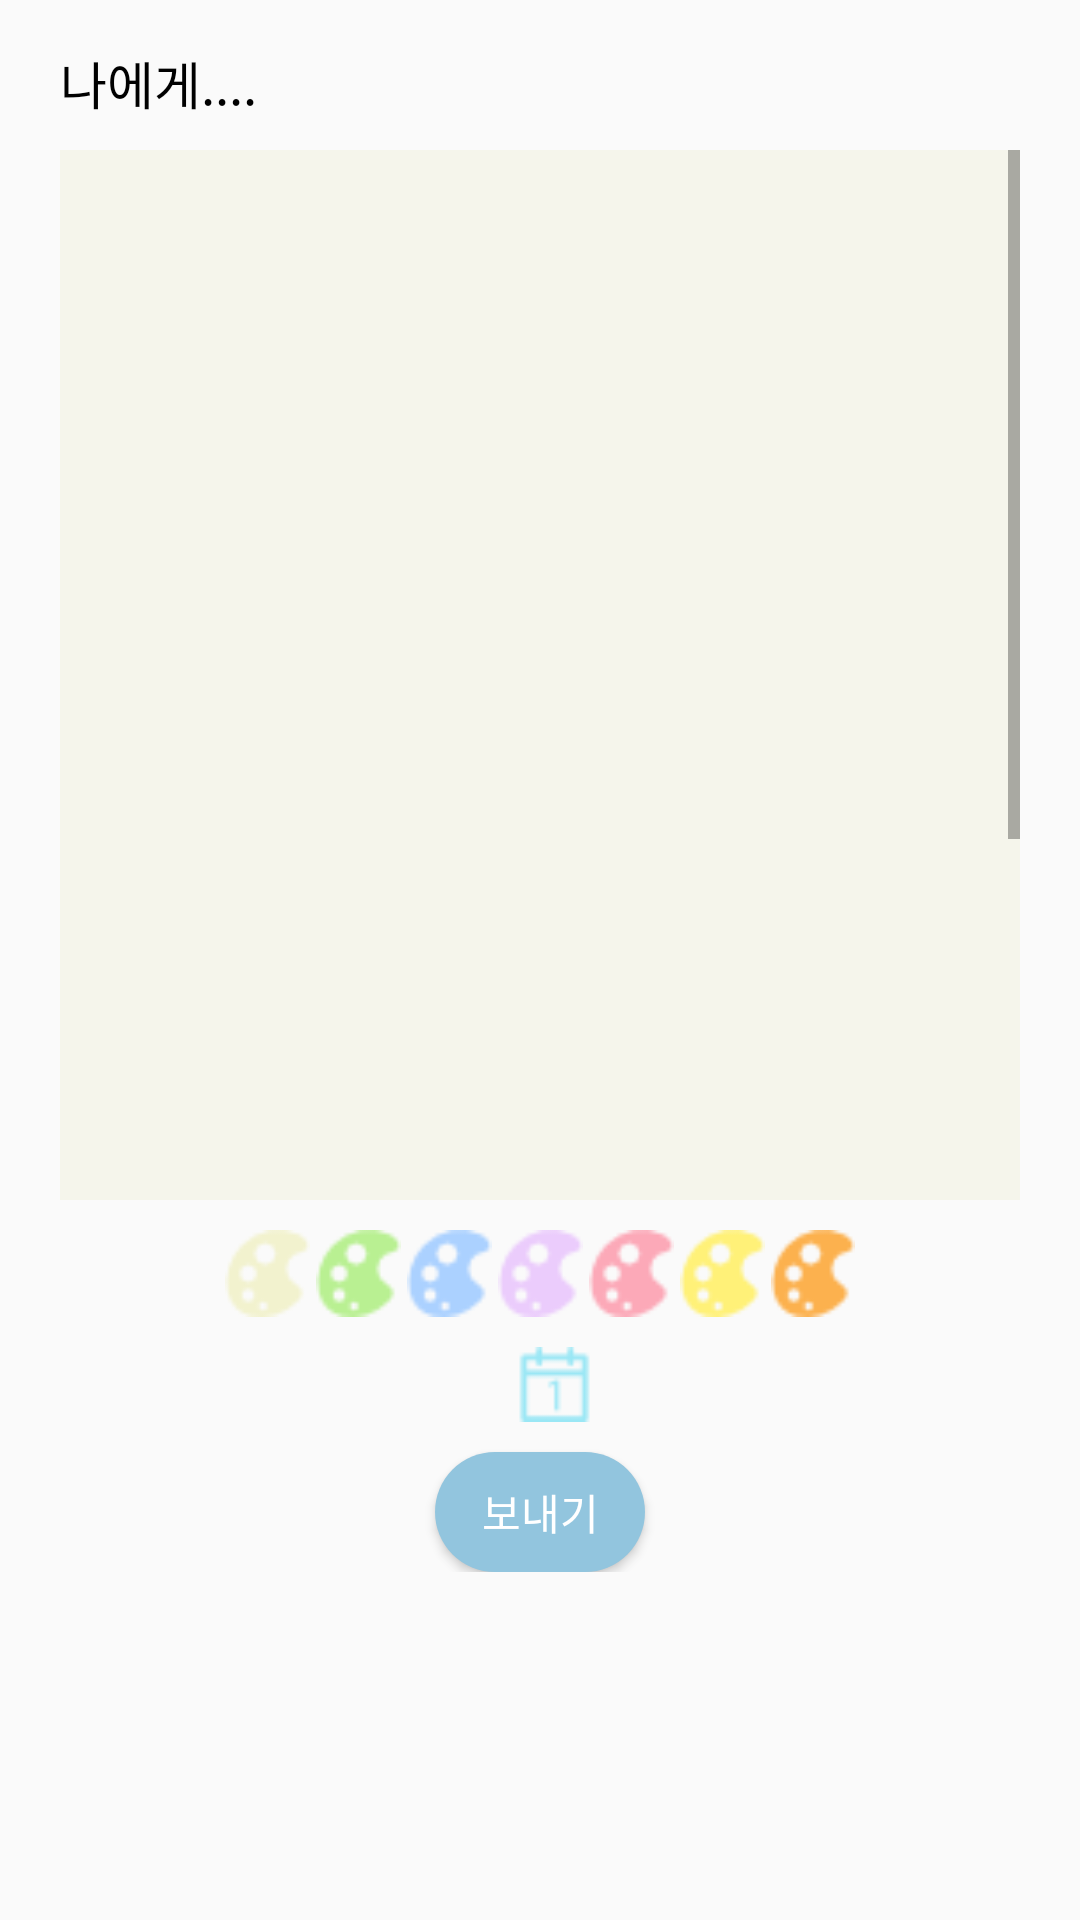

Where icons sit on this 1080px×1920px app screen, as [left=x1, top=y1, right=x2, bottom=y2]:
calendar: [left=520, top=1347, right=589, bottom=1422]
